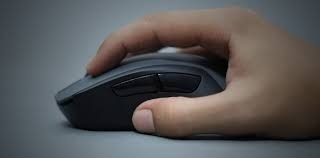mouse: (60, 54, 268, 131)
